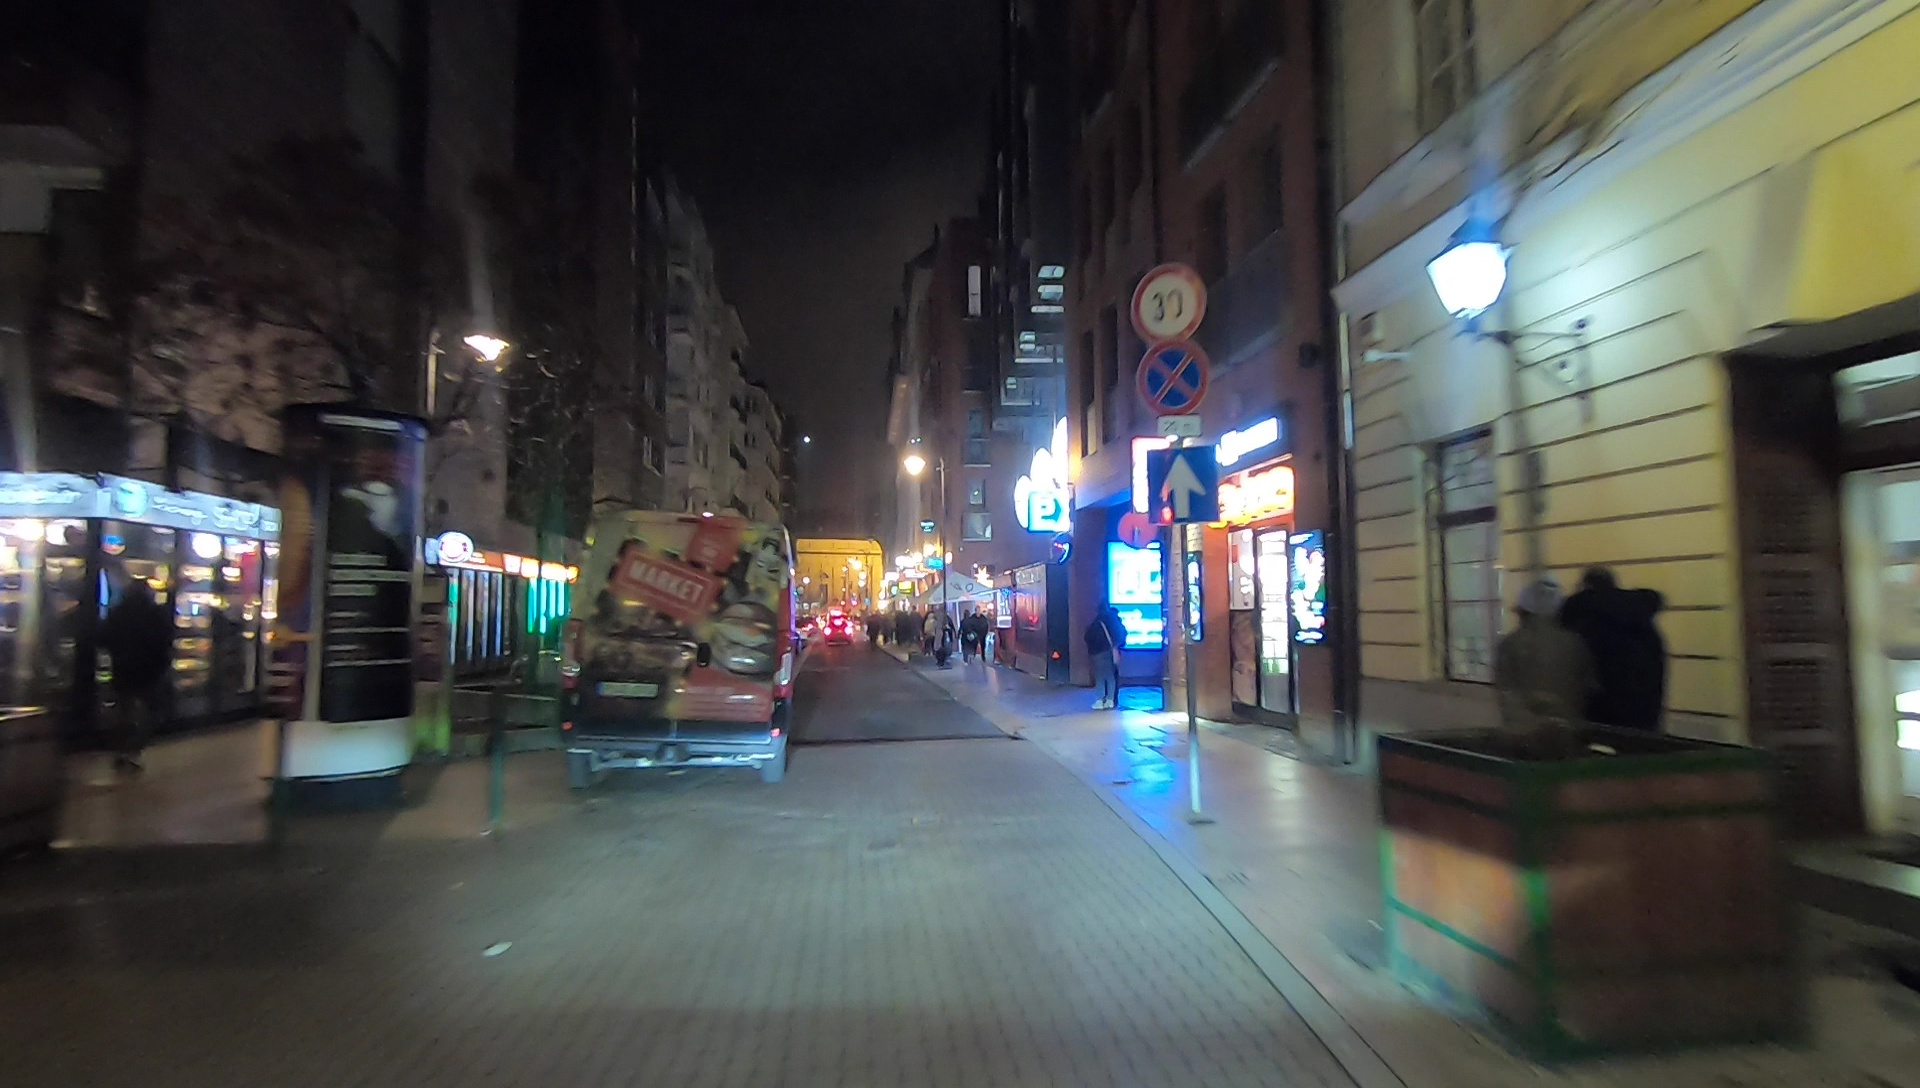person: (1562, 556, 1665, 789), (93, 571, 178, 776), (1504, 567, 1575, 782), (1084, 604, 1126, 713)
